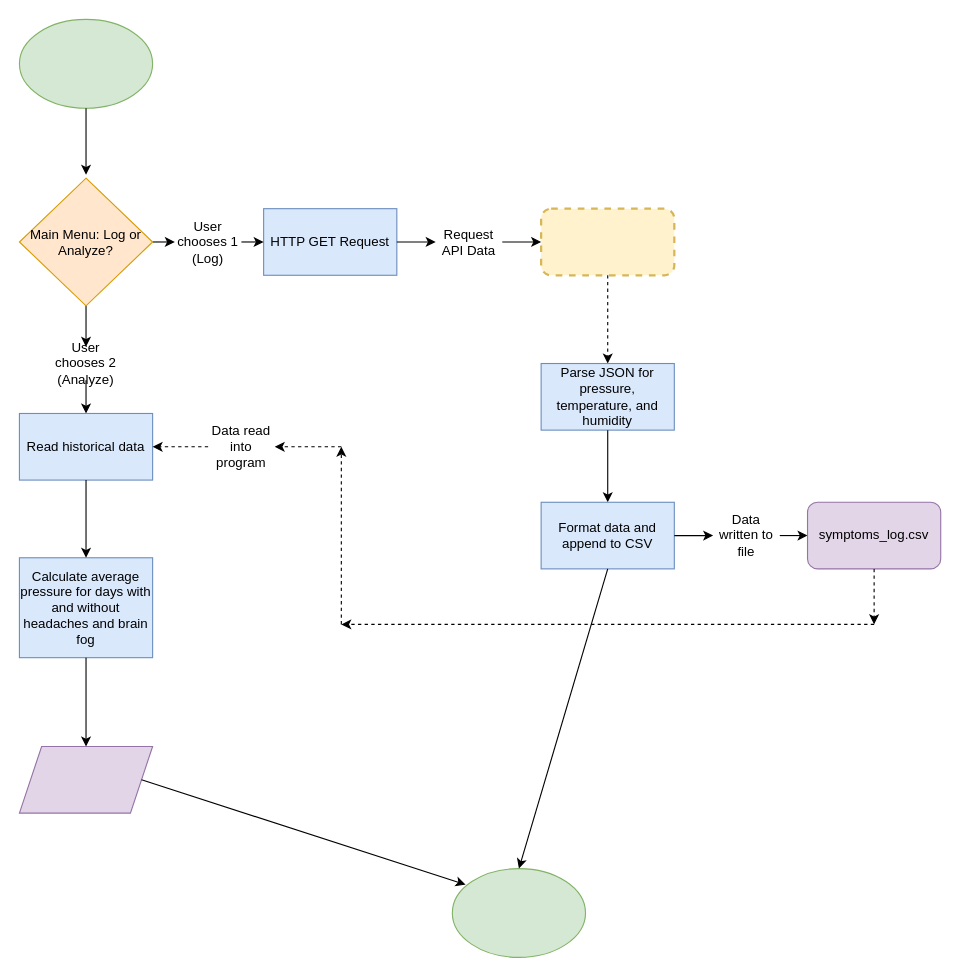
Some shapes in this 960 by 977 pixel diagram are drawn without their labels. The shapes that lost their labels are listed below. From the top down, each one's centre as x and y in pixels, then its label:
(x=85, y=63): Start: Run Program
(x=607, y=241): Open-Meteo API
(x=85, y=779): Print statistics to terminal
(x=518, y=912): End
